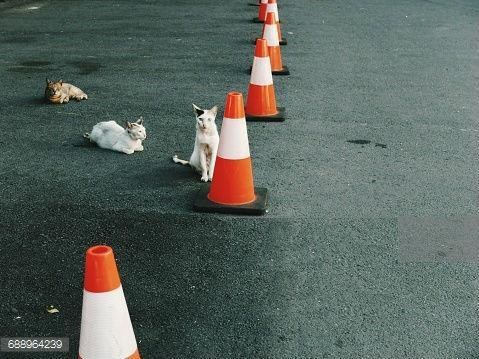Cone: (195, 91, 268, 217), (80, 245, 147, 359), (244, 38, 287, 122), (259, 11, 291, 77)
